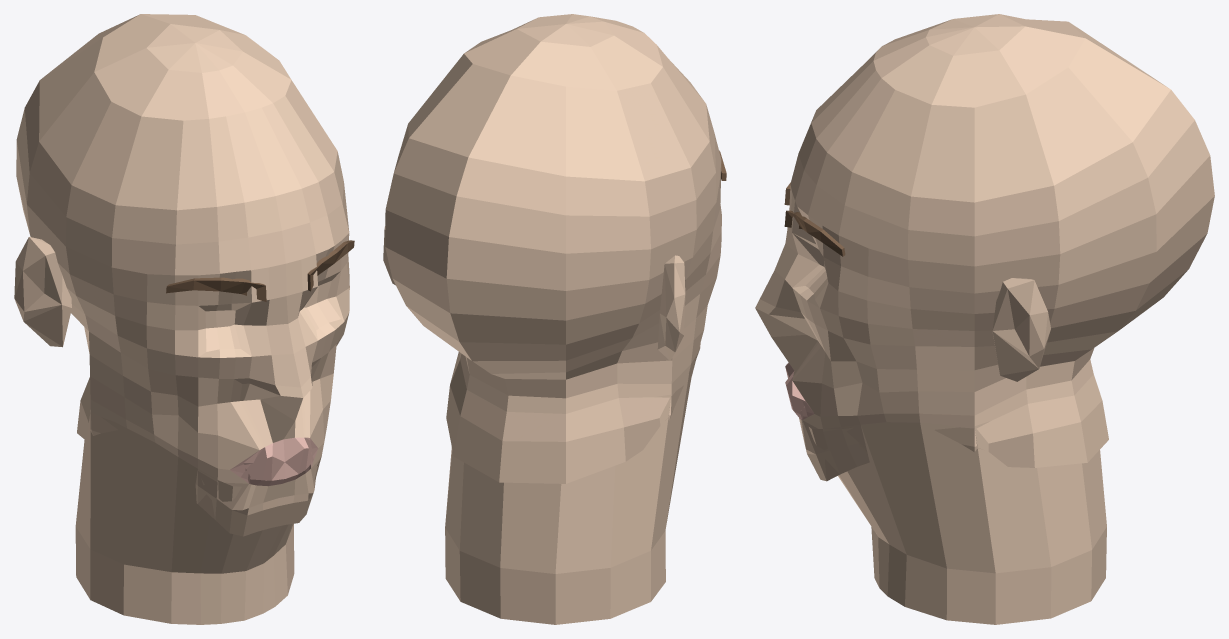
The model's file is head_tpl_v3.glb.
The picture shows the model from 3 angles, left to right: view 1: azimuth 30°, elevation 25°; view 2: azimuth 150°, elevation 25°; view 3: azimuth 270°, elevation 25°; orthographic projection.
Parts seen in each view (by area): view 1: Head_Main, Ears, Eyebrow_R, Eyebrow_L; view 2: Head_Main, Ears; view 3: Head_Main, Ears, Eyebrow_L.
Part boxes in pixels (x1,y1,x2,y2): Head_Main: (16,14,349,624); Ears: (14,237,71,347); Eyebrow_R: (166,277,266,301); Eyebrow_L: (307,240,354,291); Head_Main: (385,14,721,624); Ears: (383,226,685,360); Head_Main: (755,14,1214,624); Ears: (992,278,1050,381); Eyebrow_L: (784,210,845,256).
Size of the model in its own units: 0.1635 by 0.2886 by 0.218.
